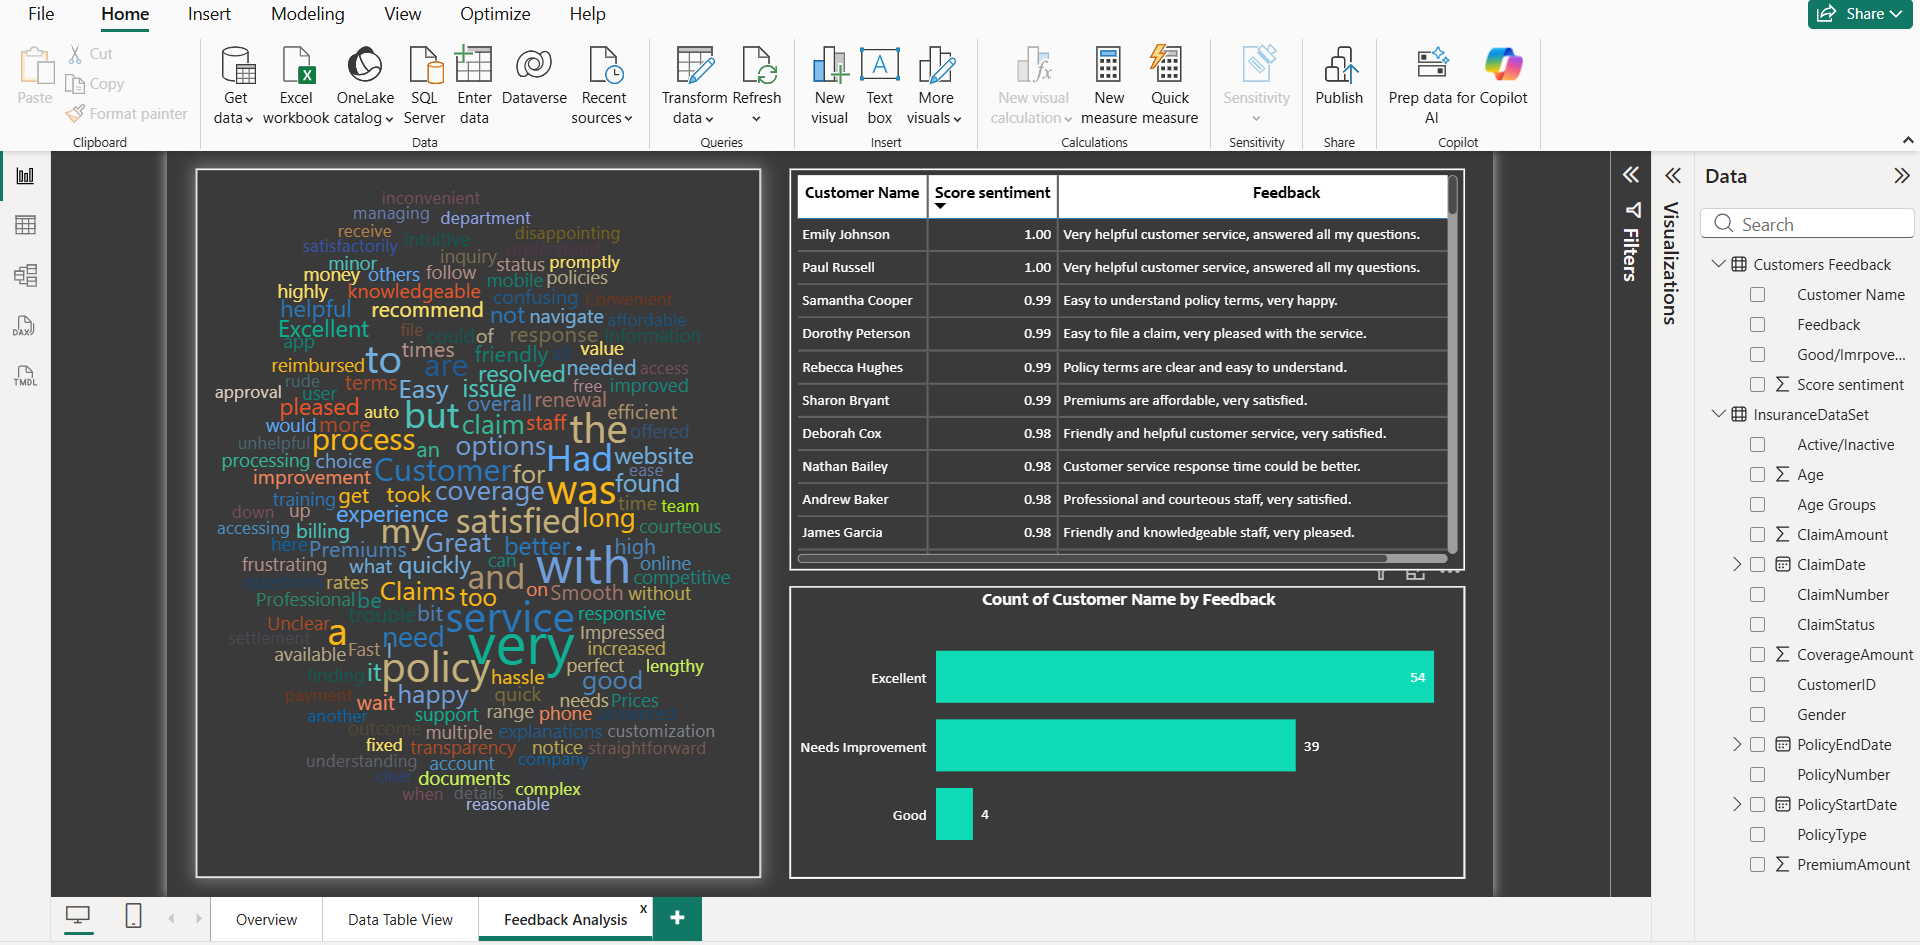

This screenshot's page, from the dashboard's own definition file:
{"tool":"powerbi","page":{"name":"Feedback Analysis","canvas":[1280,720],"ordinal":2},"visuals":[{"type":"WordCloud1447959067750","fields":{"Category":["Customers Feedback.Feedback"],"Values":["CountNonNull(Customers Feedback.Feedback)"]},"box":[28.3,17,545.7,684.6],"z":0},{"type":"barChart","title":"Count of Customer Name by Feedback","fields":{"Category":["Customers Feedback.Good/Imrpovement"],"Y":["CountNonNull(Customers Feedback.Customer Name)"]},"box":[600.9,419.5,652,282],"z":1000},{"type":"tableEx","fields":{"Values":["Customers Feedback.Customer Name","Customers Feedback.Score sentiment","Customers Feedback.Feedback"]},"box":[600.9,17,652,388.3],"z":2000}]}

Visuals, with their boxes on the page's 1280x720 design canvas (x1, y1, x2, y2). These are canvas units, not pixel positions in the 1920x945 screenshot, which may show the page scaled, cropped or inside an application window:
WordCloud1447959067750 - Customers Feedback.Feedback x CountNonNull(Customers Feedback.Feedback): {"x1": 28, "y1": 17, "x2": 574, "y2": 702}
"Count of Customer Name by Feedback" barChart: {"x1": 601, "y1": 420, "x2": 1253, "y2": 702}
tableEx - Customers Feedback.Customer Name x Customers Feedback.Score sentiment: {"x1": 601, "y1": 17, "x2": 1253, "y2": 405}
